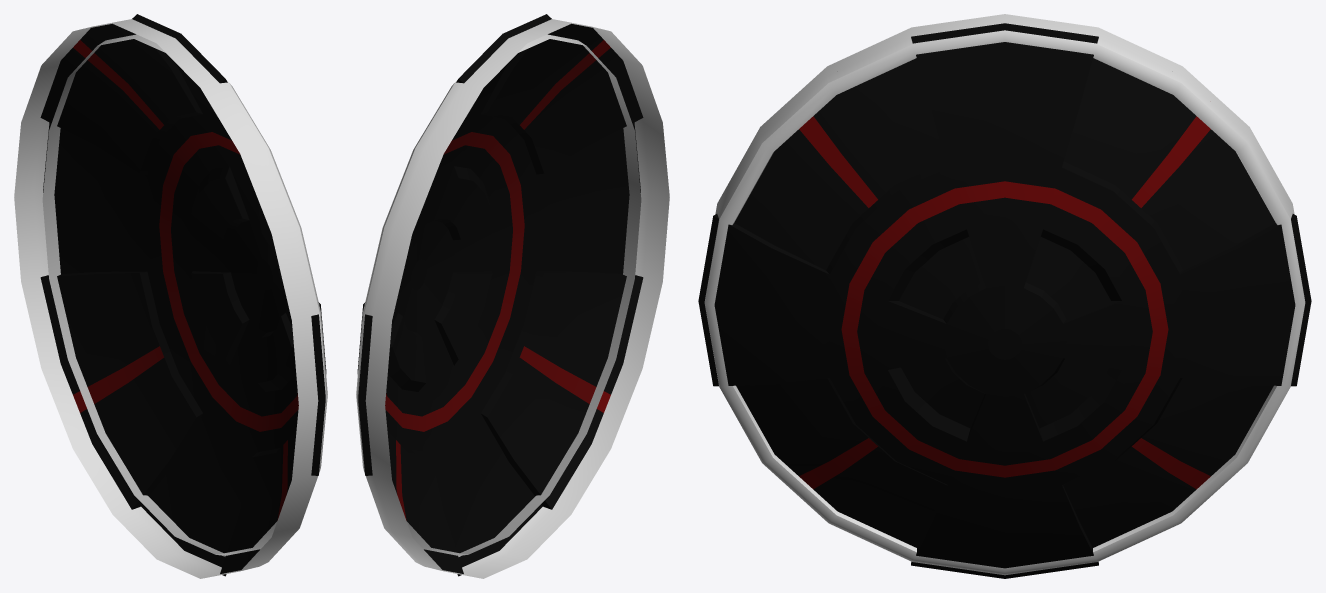
Rendered from Shield_01.fbx.
3 views of the same model, side by side, from view 1: azimuth 30°, elevation 25°; view 2: azimuth 150°, elevation 25°; view 3: azimuth 270°, elevation 25° (orthographic). The views are drawn at different scales.
Parts seen in each view (by area): view 1: ShieldOuter, ShieldBody; view 2: ShieldOuter, ShieldBody; view 3: ShieldBody, ShieldOuter.
Boxes of the visible parts, x1,y1,x2,y2 form: ShieldOuter: [14, 19, 327, 578]; ShieldBody: [40, 14, 326, 576]; ShieldOuter: [356, 19, 669, 578]; ShieldBody: [357, 14, 643, 576]; ShieldBody: [698, 23, 1311, 578]; ShieldOuter: [704, 14, 1305, 575].
Size of the model in its own units: 6.6 by 30.4 by 30.4.
